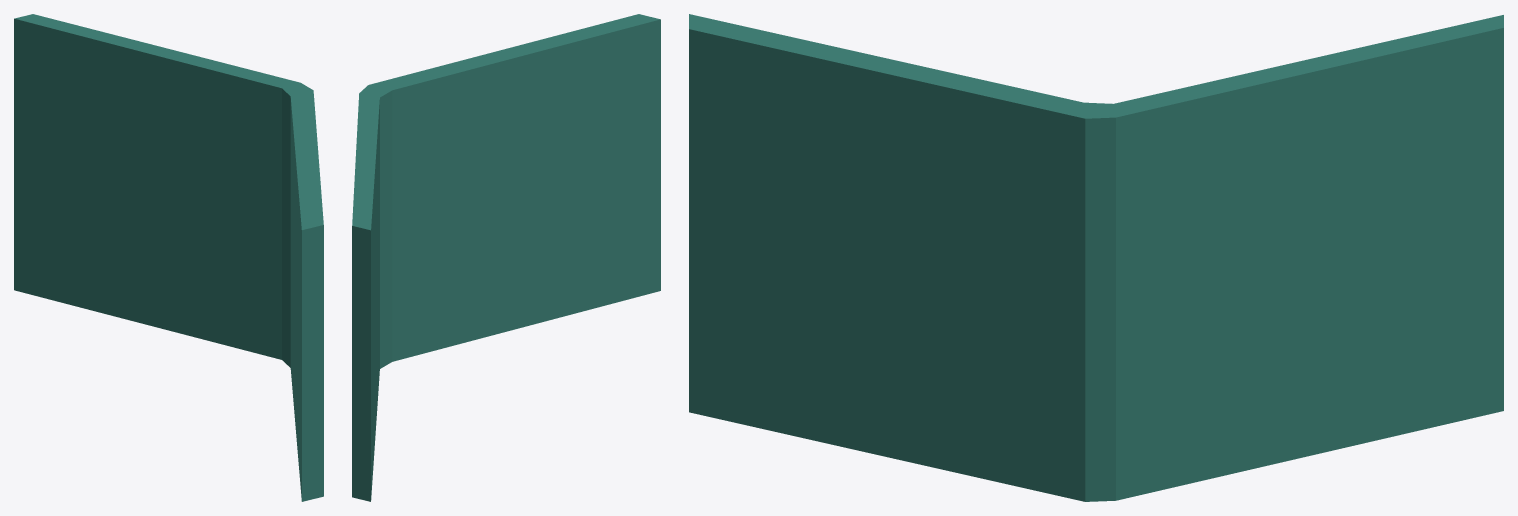
Rendered from MetalTriangleBaricade1_Collsion.fbx.
3 renders of one model, left to right at view 1: azimuth 30°, elevation 25°; view 2: azimuth 150°, elevation 25°; view 3: azimuth 270°, elevation 25°, orthographic. The views are drawn at different scales.
Parts seen in each view (by area): view 1: MetalTriangleBaricade1_Collsion; view 2: MetalTriangleBaricade1_Collsion; view 3: MetalTriangleBaricade1_Collsion.
Part boxes in pixels (x1=…): MetalTriangleBaricade1_Collsion: x1=14, y1=14, x2=323, y2=501; MetalTriangleBaricade1_Collsion: x1=352, y1=14, x2=660, y2=501; MetalTriangleBaricade1_Collsion: x1=689, y1=14, x2=1503, y2=501.
Bounding box in the file's own units: 0.786 × 1.34 × 2.58.
